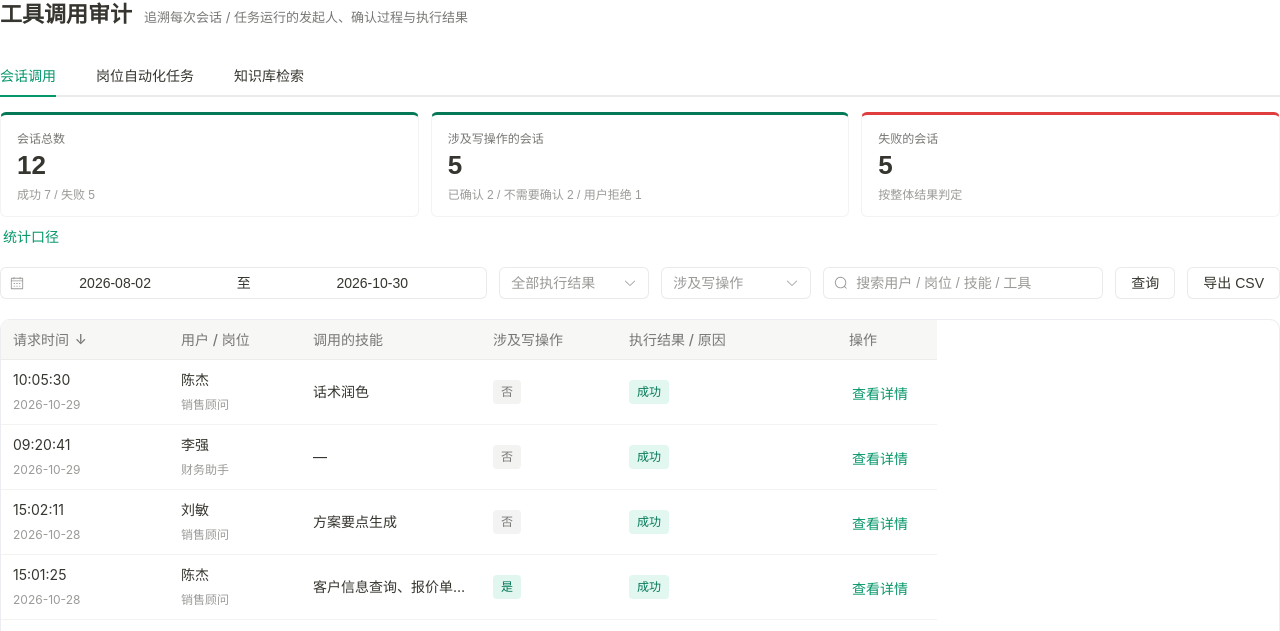
Test case: 岗位自动化任务页签（PRD §八） › 成功的只读运行（每周竞品动态汇总）：详情里不展示参数 / 响应入口
The width and height of the screenshot is (1280, 631).
Click the tab "岗位自动化任务" at (145, 76), box [96,67,194,84]
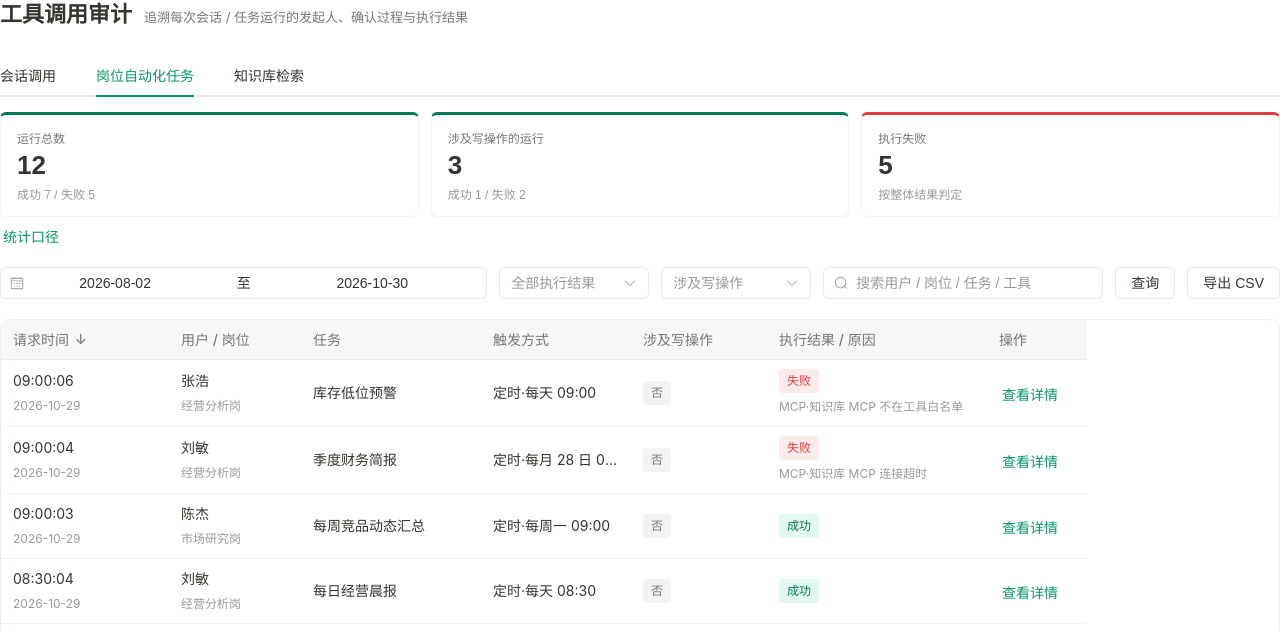
Click the button "查看详情" in the row of "09:00:03" at (1030, 528), box [999,518,1061,538]
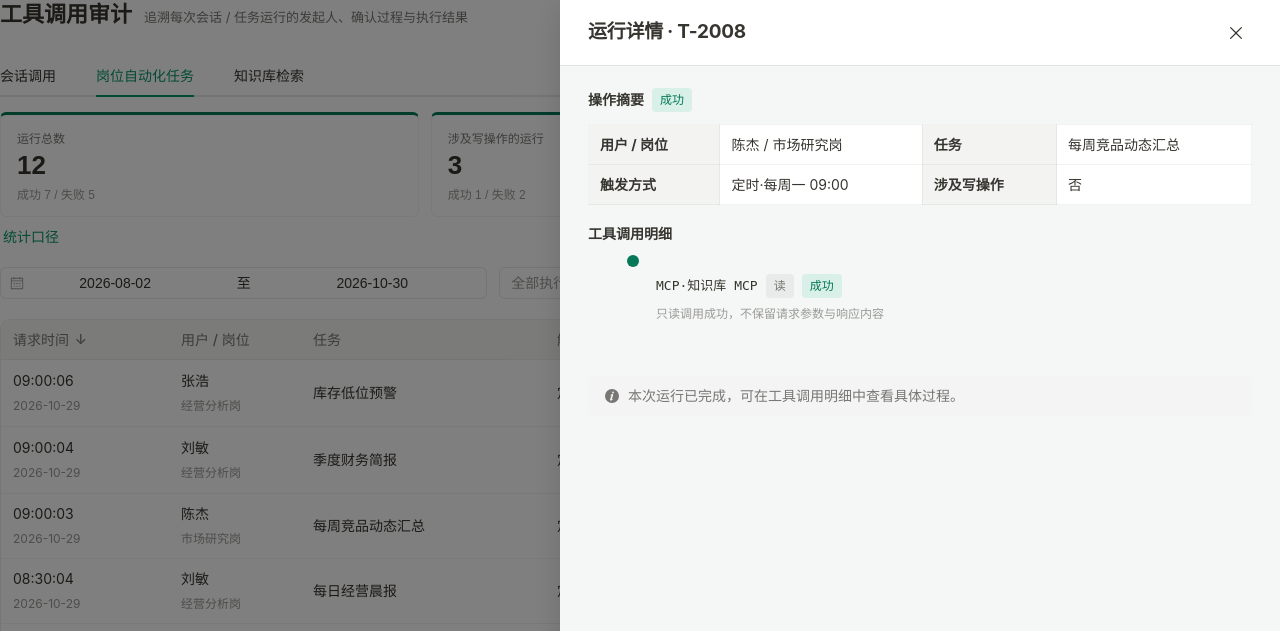
Result: the element that starts with "操作摘要" shows "只读调用成功，不保留请求参数与响应内容" at [656,306,884,321]
